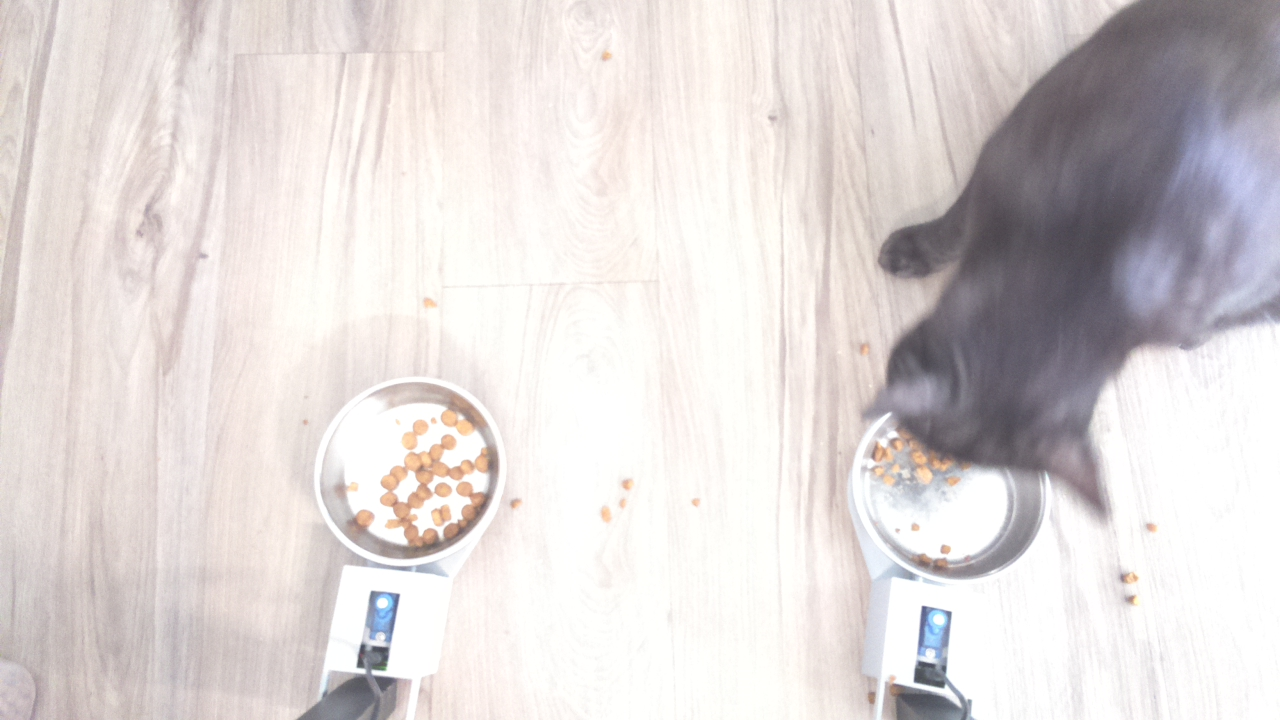open_bowl: (307, 372, 511, 569), (833, 425, 1055, 582)
saki: (859, 242, 1147, 516)
